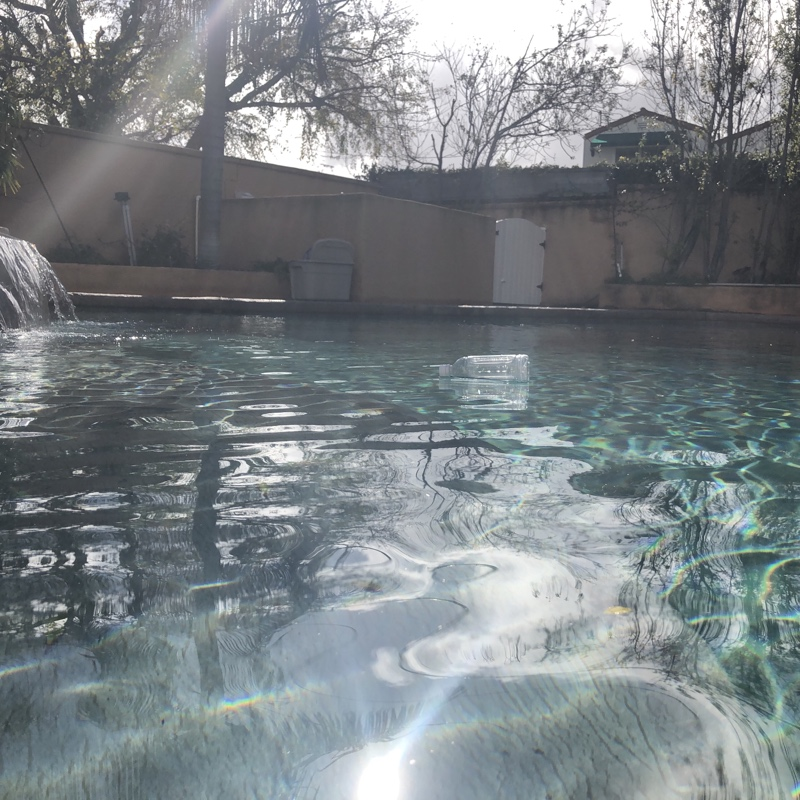Plastic Bottle: (434, 347, 532, 386)
